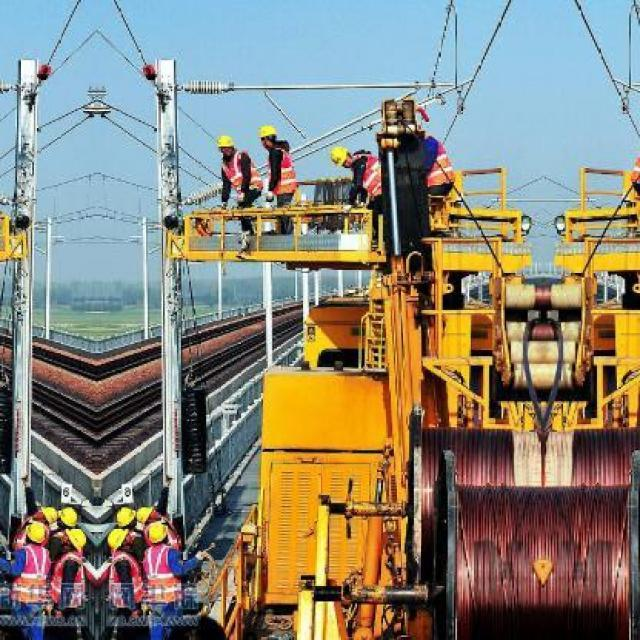reflective_jacket: (143, 544, 181, 605), (12, 545, 50, 604), (215, 151, 255, 203), (106, 553, 144, 607), (264, 145, 300, 199)
safety_helmet: (253, 120, 281, 144), (327, 143, 352, 169), (106, 525, 130, 550), (24, 520, 49, 543), (146, 521, 169, 544), (212, 131, 238, 151), (114, 505, 137, 527), (66, 527, 87, 550), (58, 505, 79, 527)
